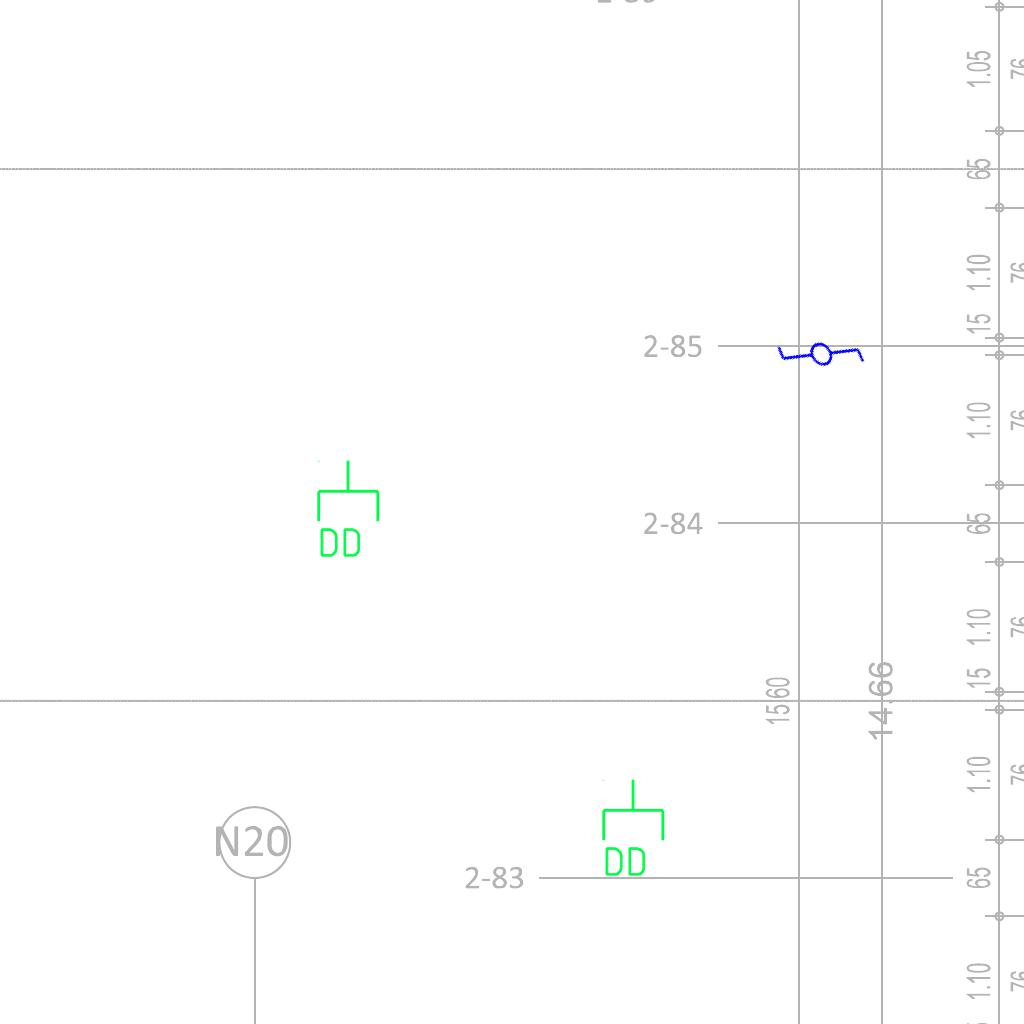Datenanschluss_zweifach: (313, 458, 382, 561), (598, 777, 667, 880)
Wechselschalter: (770, 305, 876, 411)
